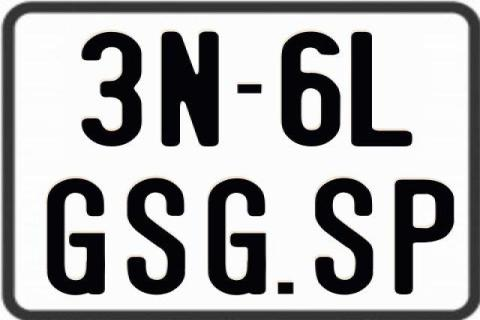0: (281, 31, 343, 151), (80, 29, 144, 145)
G: (205, 176, 269, 294), (45, 177, 107, 295)
L: (348, 29, 410, 145)
N: (160, 30, 220, 146)
P: (394, 179, 458, 299)
S: (315, 178, 379, 294), (126, 178, 188, 296)
